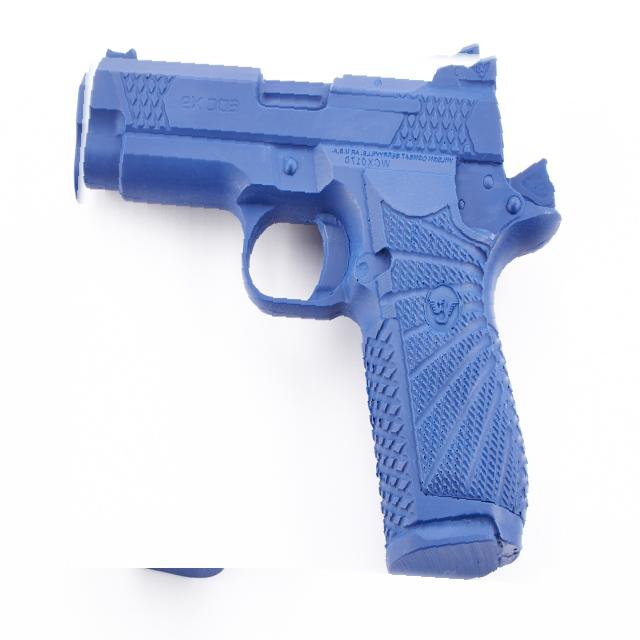gun: (61, 35, 570, 576)
